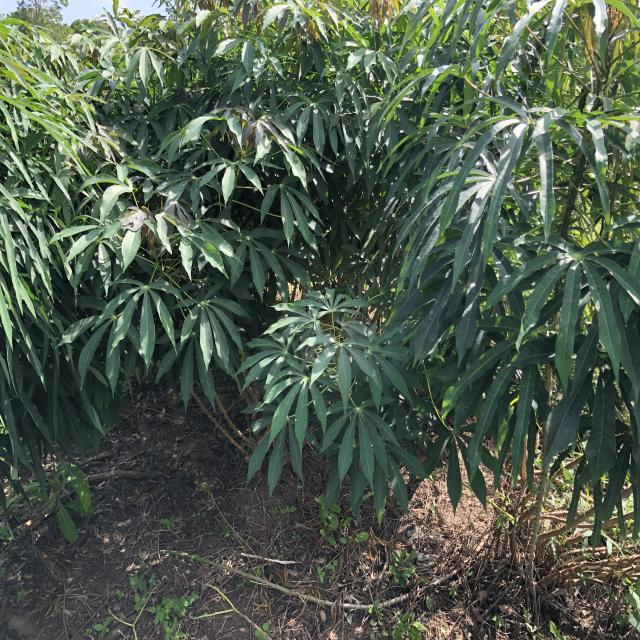Mosca: (118, 346, 134, 359), (414, 282, 427, 296), (366, 439, 376, 450), (254, 372, 261, 384), (292, 413, 298, 426)
